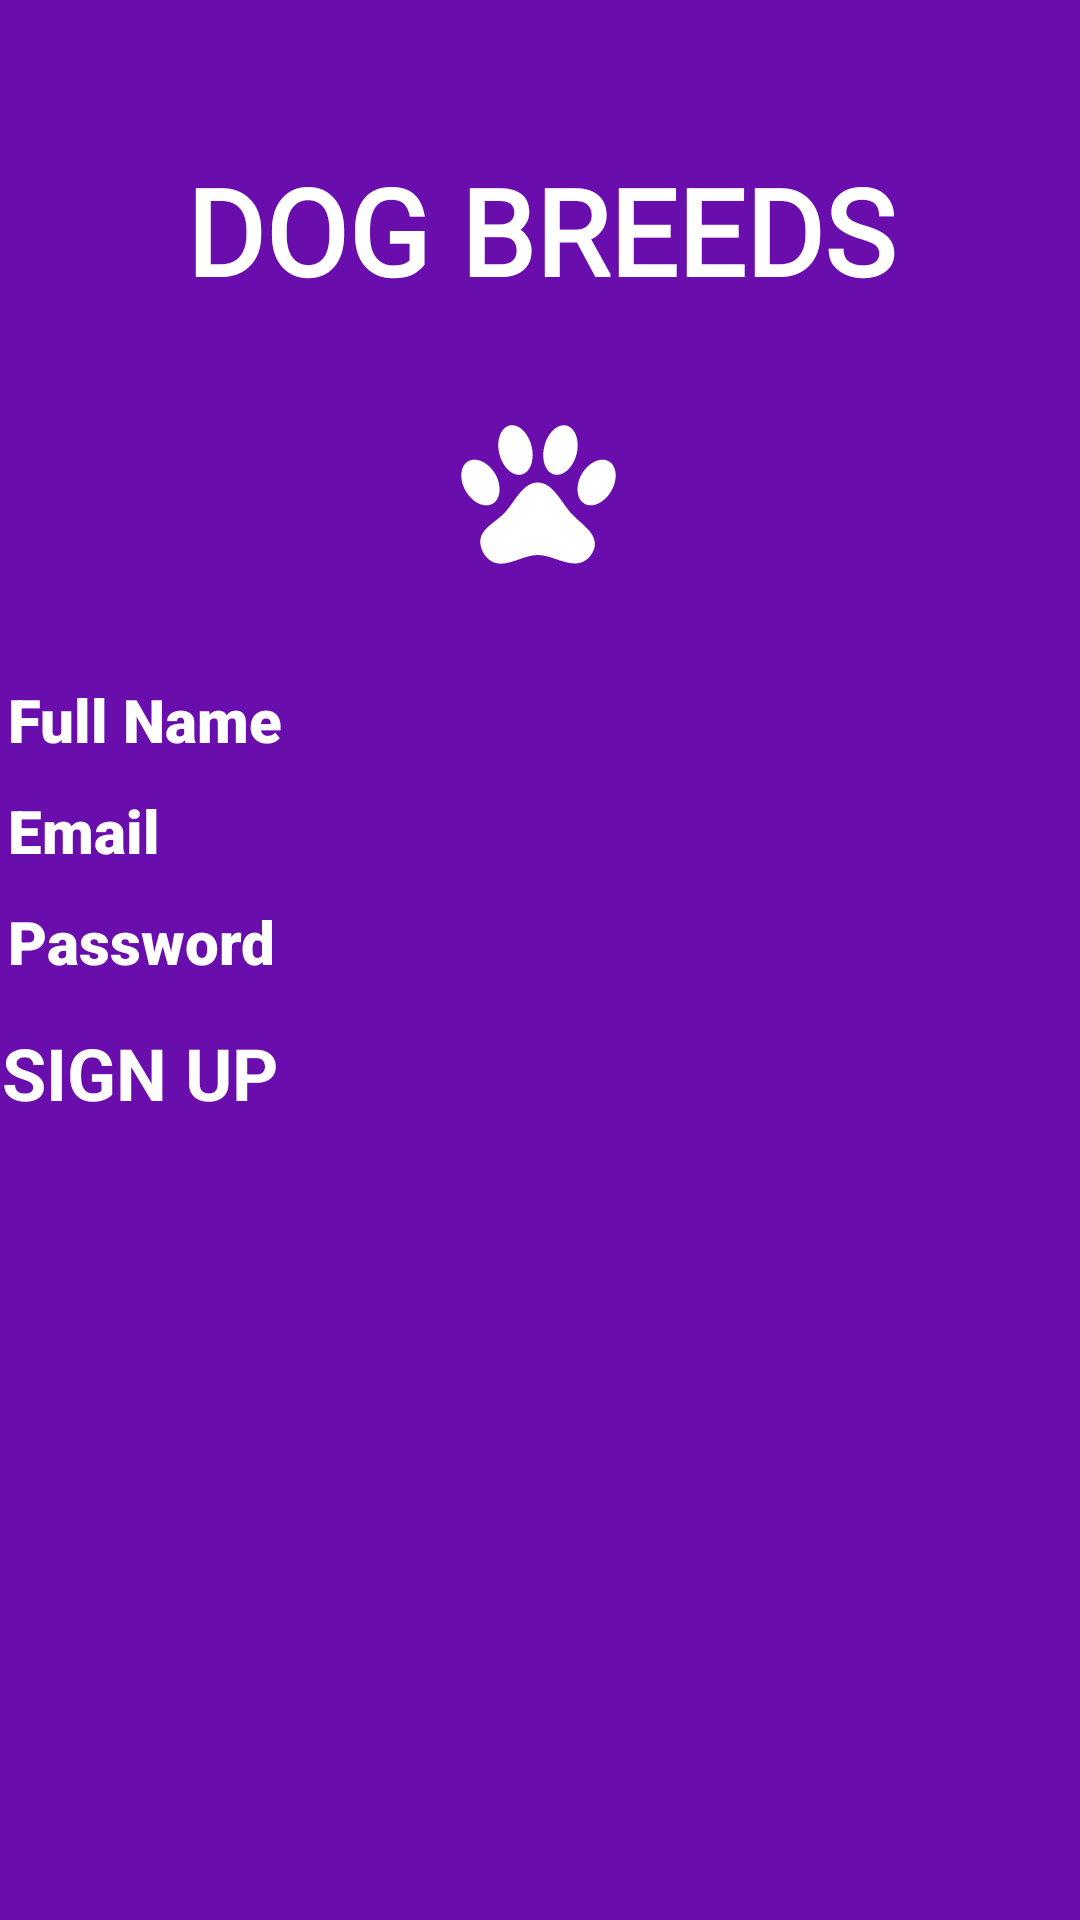

Screen size 1080 × 1920. Icon name, then its box in pixels as BBox(x1, y1, x2, y2):
paw: BBox(461, 425, 616, 564)
